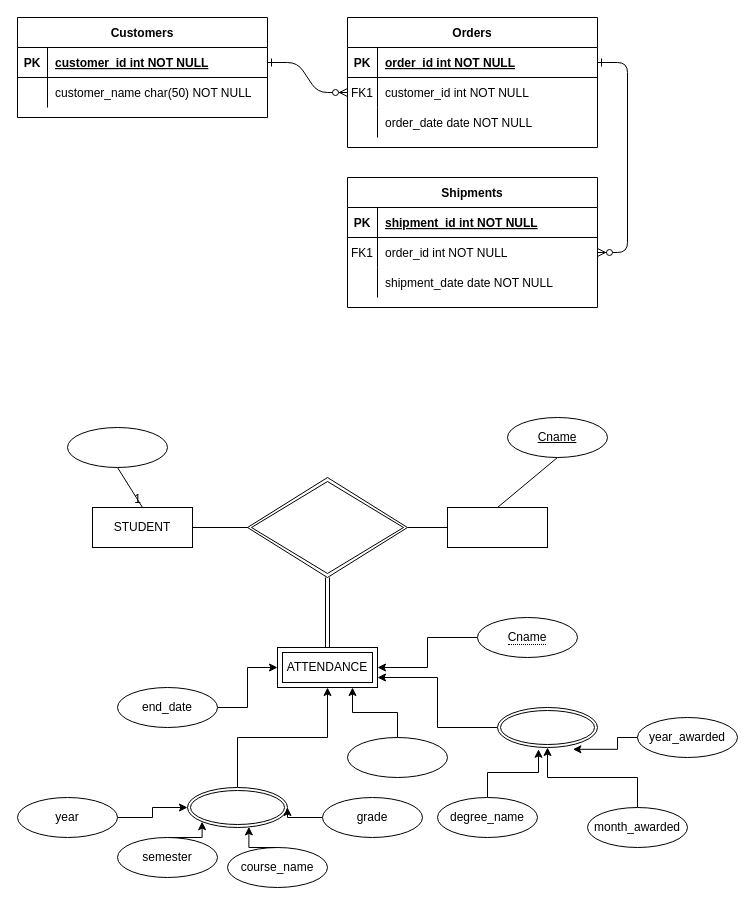
This 755x905 diagram has some shape labels left out. Here are the shapes that lost their labels. From the top down, the centre of each, then its label:
At (x=117, y=447): "Sid".
At (x=327, y=527): "ATTEND PREVIOUS".
At (x=497, y=527): "COLLEGE".
At (x=547, y=727): "degree_entry".
At (x=397, y=757): "start_day".
At (x=237, y=807): "transcript_entry".
